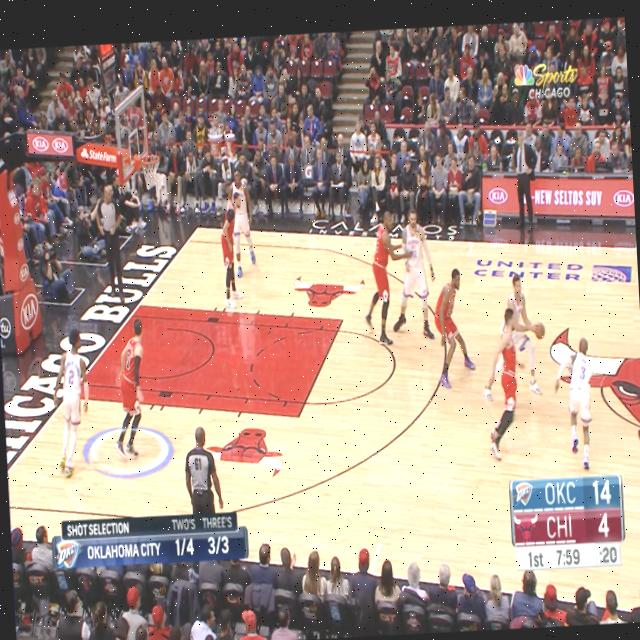no foul: (354, 194, 438, 354), (482, 270, 552, 460), (214, 176, 266, 310)
